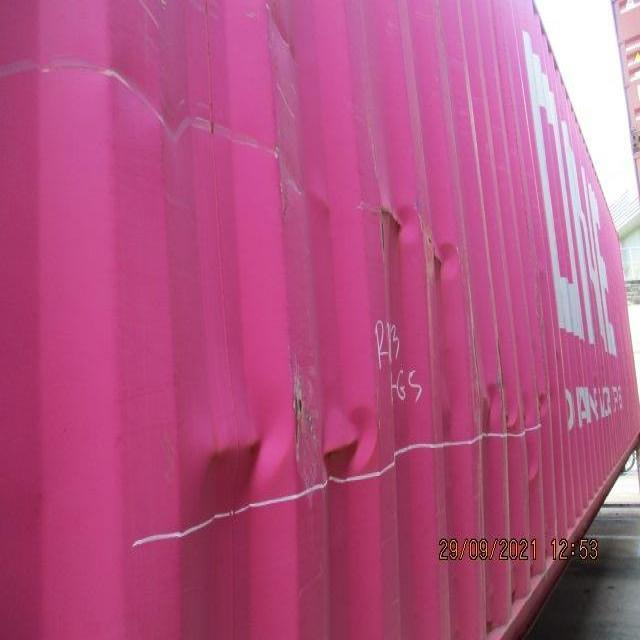Dent: (170, 336, 557, 535)
Minor-Dent: (354, 178, 473, 302)
